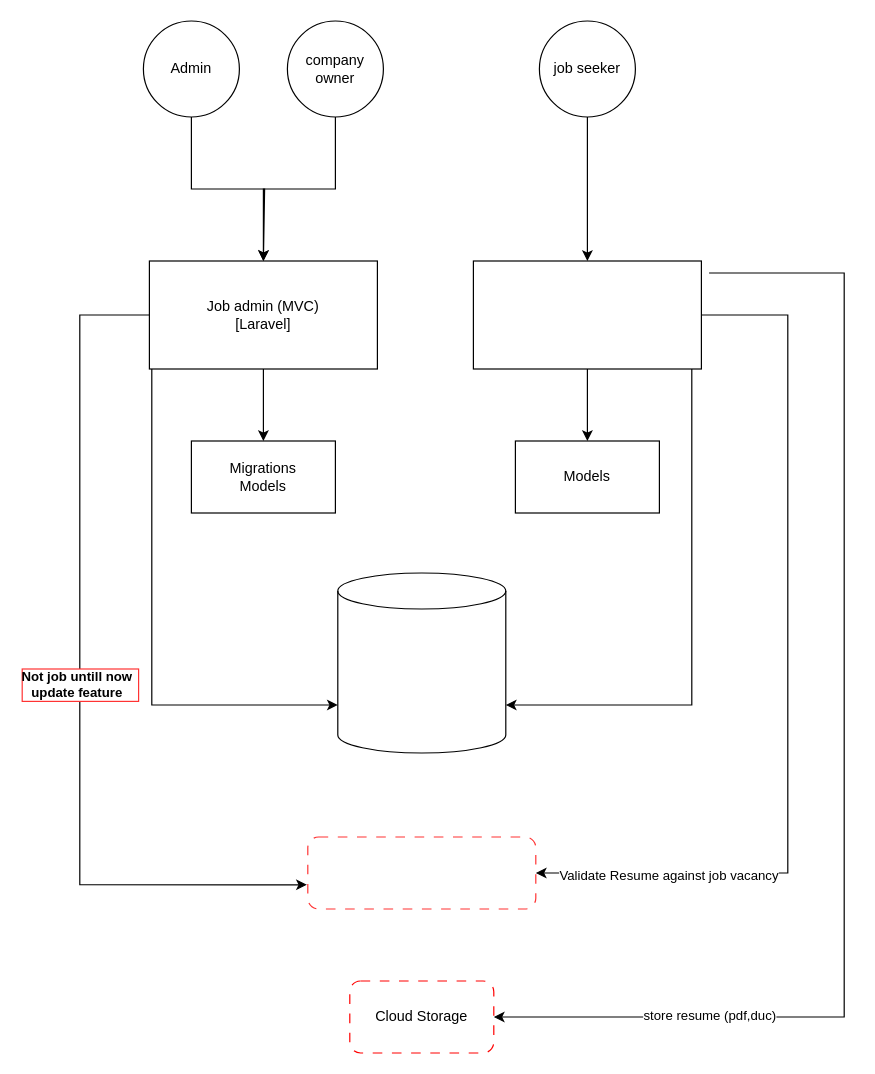
Image size: 875x1074. Some labels were removed from this diagram. The shapes that lost their labels are listed below. From the top down, each one's box as (x1, y1, x2, y2) in pixels, then its label:
(472, 260, 701, 369): job App (MVC) [Laravel]
(337, 572, 506, 753): Shaghal_DB [MySQL]
(307, 836, 536, 909): AI Integration
